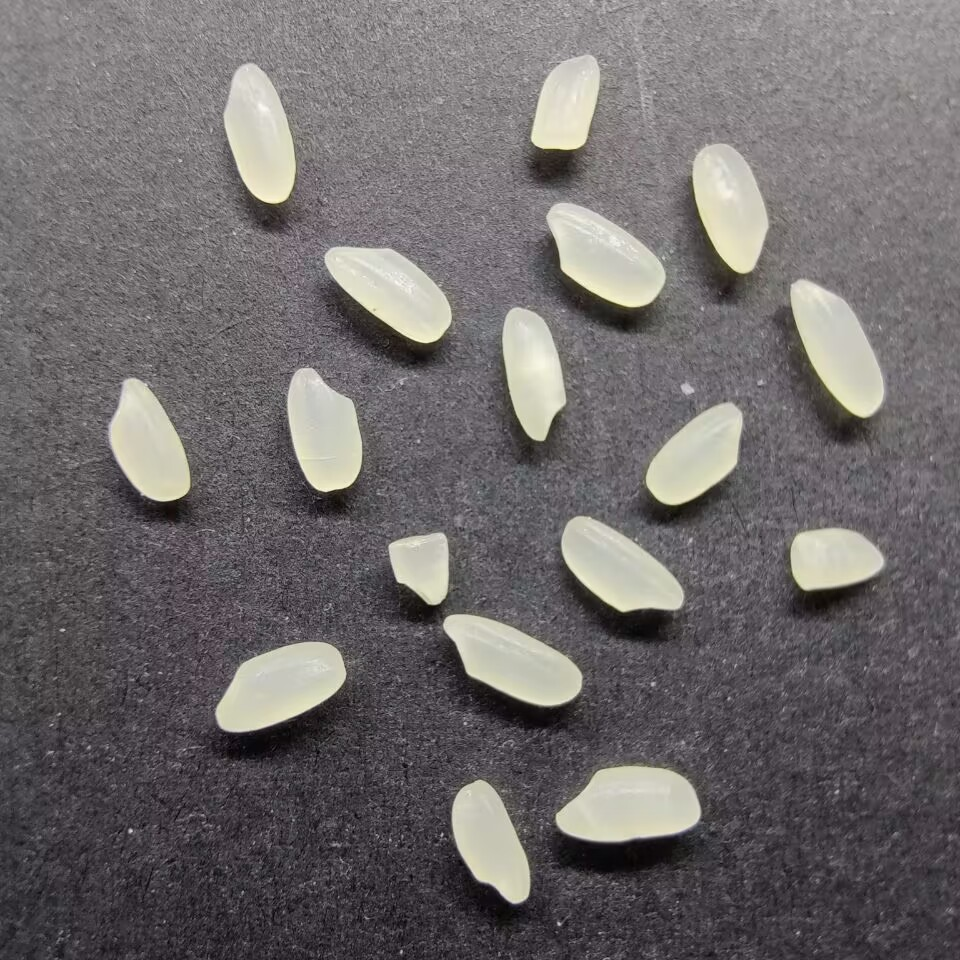broken: (528, 50, 602, 151), (788, 527, 885, 590), (387, 532, 450, 606)
rice: (787, 276, 887, 419), (442, 612, 585, 709), (544, 201, 669, 309), (321, 244, 452, 346), (211, 640, 349, 735), (558, 513, 686, 614), (553, 764, 702, 844), (106, 377, 193, 503), (645, 398, 746, 506), (221, 61, 295, 205), (692, 141, 771, 275), (448, 779, 532, 904), (285, 364, 364, 494), (501, 304, 569, 443)
